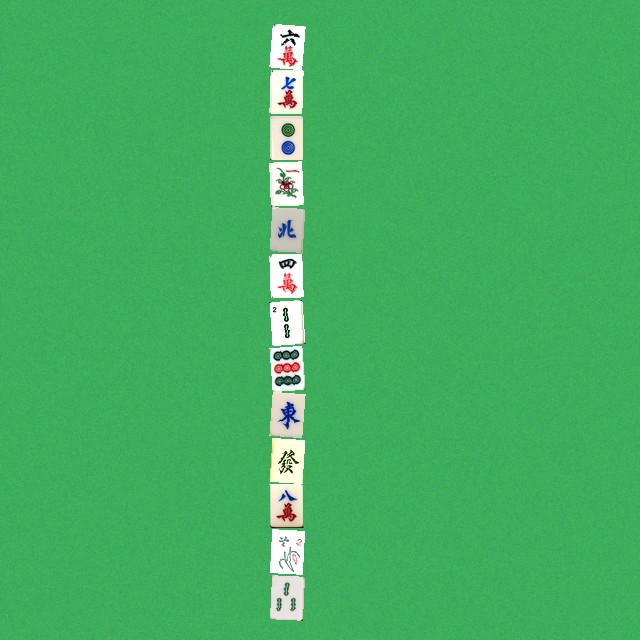tile: (269, 23, 302, 67), (269, 69, 302, 113), (269, 115, 302, 159), (269, 161, 302, 205), (269, 207, 302, 251), (269, 253, 302, 297), (269, 299, 302, 343), (269, 345, 302, 389), (269, 391, 302, 435), (269, 437, 302, 481), (269, 483, 302, 527), (269, 529, 302, 573), (269, 575, 302, 619)
